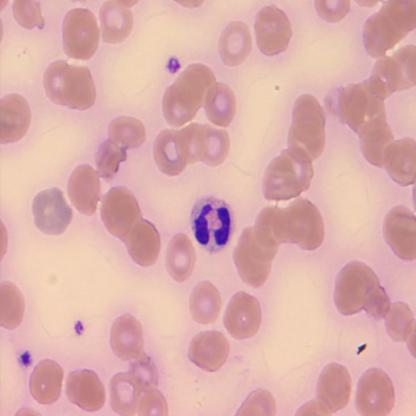Segmented neutrophil: (187, 194, 238, 252)
